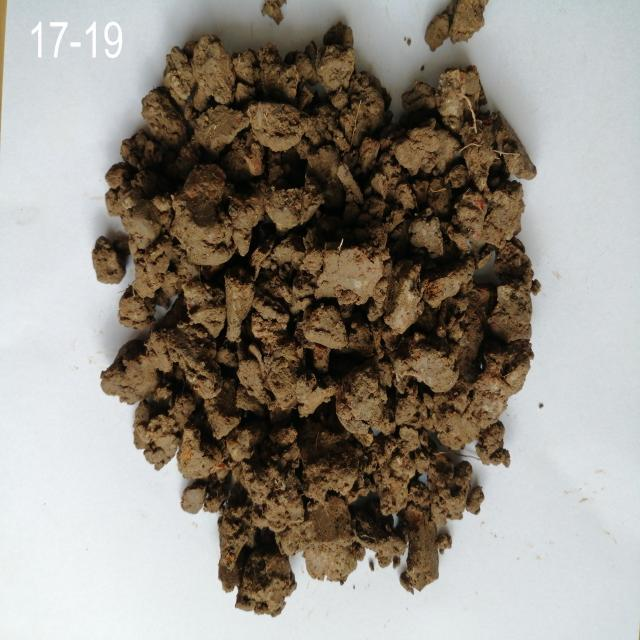soil: (183, 111, 462, 483)
